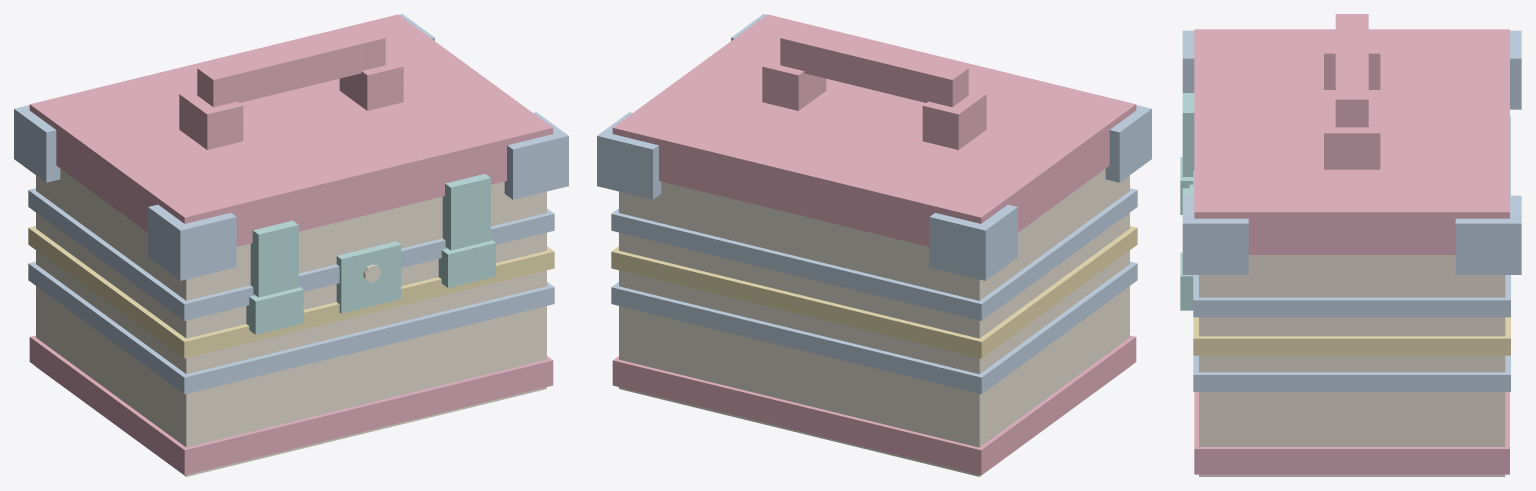
File: item_98_storage_case.glb
3 renders of one model, left to right at view 1: azimuth 30°, elevation 25°; view 2: azimuth 150°, elevation 25°; view 3: azimuth 270°, elevation 25°, orthographic.
Visible parts, largest first — view 1: I98_TopBand, I98_Body, I98_BotBand, I98_Stripe0, I98_Stripe1, I98_Handle, I98_Stripe2, I98_Cap-1-1, I98_Cap1-1, I98_KeyPlate, I98_Latch0, I98_Latch1 (+5 smaller); view 2: I98_Body, I98_TopBand, I98_BotBand, I98_Stripe1, I98_Stripe2, I98_Stripe0, I98_Handle, I98_Cap-11, I98_Cap11, I98_Post0, I98_Cap-1-1, I98_Post1; view 3: I98_TopBand, I98_Body, I98_BotBand, I98_Stripe2, I98_Stripe1, I98_Stripe0, I98_Cap1-1, I98_Cap11, I98_Handle, I98_Post1, I98_Post0, I98_Latch0 (+3 smaller).
Part boxes in pixels (bbox=[...]): I98_TopBand: bbox=[29, 14, 553, 246]; I98_Body: bbox=[36, 169, 546, 476]; I98_BotBand: bbox=[29, 335, 553, 475]; I98_Stripe0: bbox=[28, 261, 554, 394]; I98_Stripe1: bbox=[28, 226, 554, 358]; I98_Handle: bbox=[197, 26, 385, 107]; I98_Stripe2: bbox=[28, 188, 554, 320]; I98_Cap-1-1: bbox=[148, 204, 236, 280]; I98_Cap1-1: bbox=[504, 112, 568, 199]; I98_KeyPlate: bbox=[336, 241, 401, 313]; I98_Latch0: bbox=[250, 220, 298, 297]; I98_Latch1: bbox=[442, 174, 490, 250]; I98_Body: bbox=[619, 169, 1129, 476]; I98_TopBand: bbox=[612, 14, 1136, 246]; I98_BotBand: bbox=[612, 335, 1136, 475]; I98_Stripe1: bbox=[611, 226, 1137, 358]; I98_Stripe2: bbox=[611, 188, 1137, 320]; I98_Stripe0: bbox=[611, 261, 1137, 394]; I98_Handle: bbox=[780, 26, 968, 107]; I98_Cap-11: bbox=[929, 204, 1017, 280]; I98_Cap11: bbox=[597, 112, 661, 199]; I98_Post0: bbox=[922, 90, 986, 149]; I98_Cap-1-1: bbox=[1105, 105, 1151, 182]; I98_Post1: bbox=[762, 54, 826, 110]; I98_TopBand: bbox=[1194, 29, 1509, 254]; I98_Body: bbox=[1199, 255, 1505, 476]; I98_BotBand: bbox=[1194, 392, 1509, 474]; I98_Stripe2: bbox=[1193, 116, 1510, 317]; I98_Stripe1: bbox=[1193, 317, 1510, 355]; I98_Stripe0: bbox=[1193, 355, 1510, 391]; I98_Cap1-1: bbox=[1182, 195, 1248, 274]; I98_Cap11: bbox=[1455, 195, 1521, 274]; I98_Handle: bbox=[1335, 14, 1368, 127]; I98_Post1: bbox=[1324, 115, 1380, 169]; I98_Post0: bbox=[1324, 35, 1380, 89]; I98_Latch0: bbox=[1182, 93, 1194, 176].
Size of the model in its own units: 0.194 by 0.155 by 0.145.
